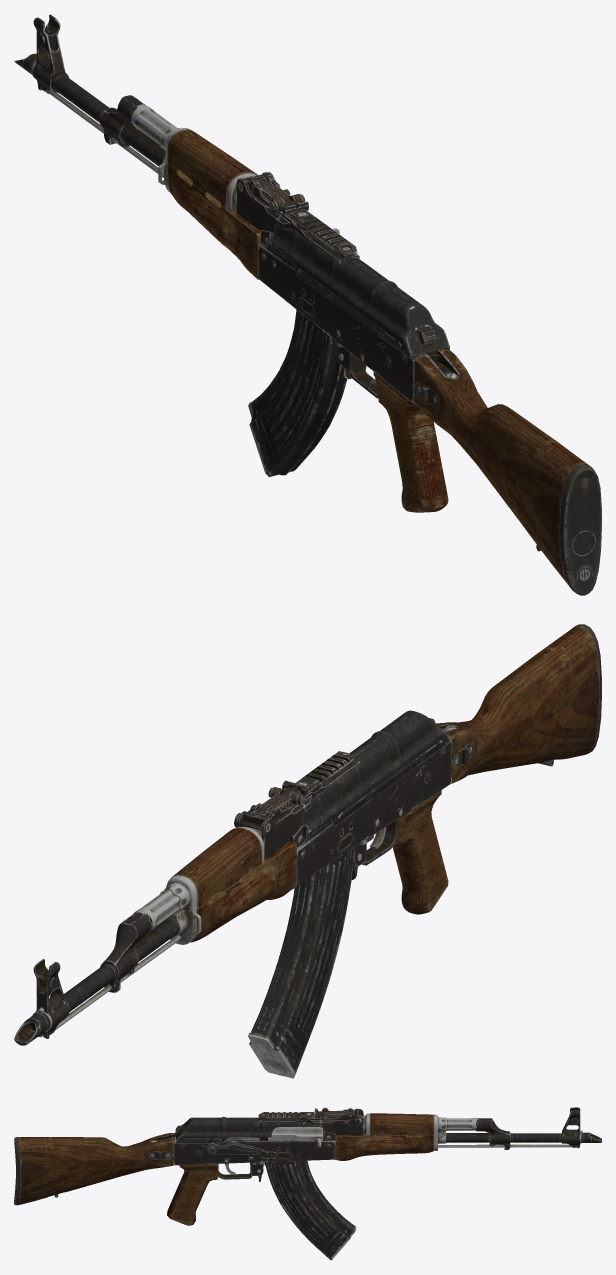
3 renders of one model, top to bottom at view 1: azimuth 30°, elevation 25°; view 2: azimuth 150°, elevation 25°; view 3: azimuth 270°, elevation 25°, orthographic. The views are drawn at different scales.
Visible parts, largest first — view 1: body, MAGAZINE; view 2: body, MAGAZINE; view 3: body, MAGAZINE, SELECTOR, SLIDE.
Boxes of the visible parts, left/top/right/bottom form: body: left=14, top=14, right=601, bottom=595; MAGAZINE: left=248, top=309, right=346, bottom=477; body: left=14, top=624, right=601, bottom=1045; MAGAZINE: left=248, top=847, right=355, bottom=1078; body: left=14, top=1107, right=601, bottom=1225; MAGAZINE: left=264, top=1160, right=356, bottom=1260; SELECTOR: left=205, top=1141, right=276, bottom=1158; SLIDE: left=268, top=1127, right=322, bottom=1147.
Size of the model in its own units: 0.0777 by 0.287 by 1.03.
Materials: 1 (1 with a texture image).
